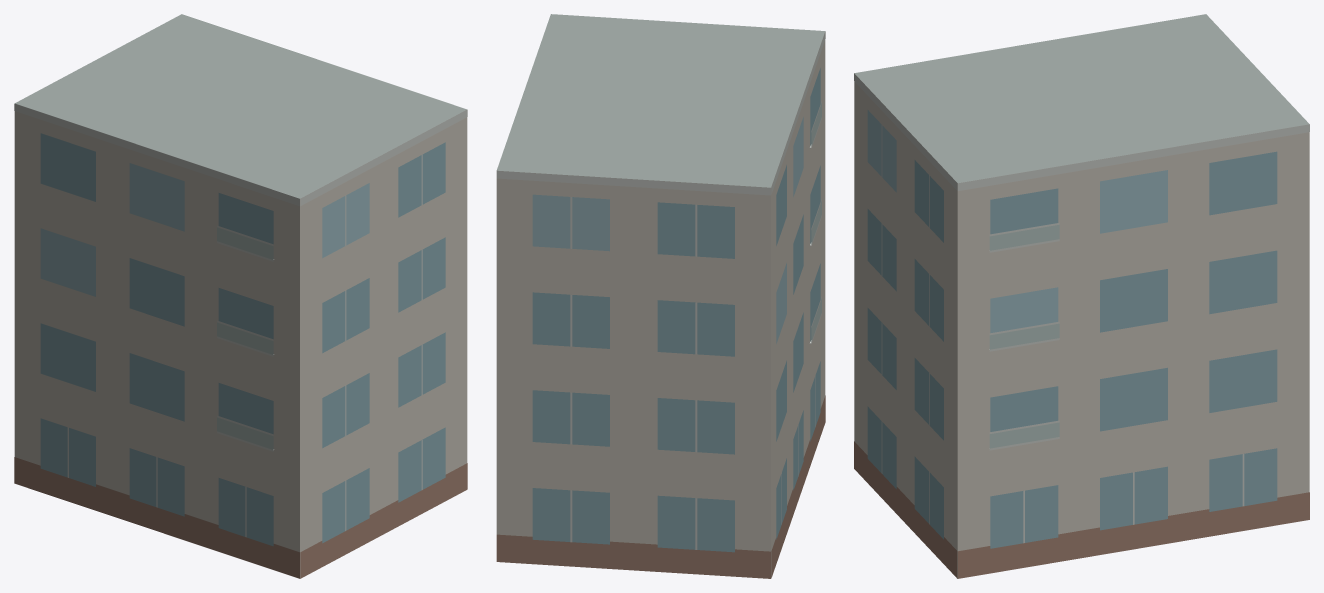
File: residential-f73aed26-8eb4-4c14-95a9-12cc0fffcc47.glb
The picture shows the model from 3 angles, left to right: view 1: azimuth 30°, elevation 25°; view 2: azimuth 150°, elevation 25°; view 3: azimuth 270°, elevation 25°; orthographic projection. The views are drawn at different scales.
Parts seen in each view (by area): view 1: residential-f73aed26-8eb4-4c14-95a9-12cc0fffcc47.tmp; view 2: residential-f73aed26-8eb4-4c14-95a9-12cc0fffcc47.tmp; view 3: residential-f73aed26-8eb4-4c14-95a9-12cc0fffcc47.tmp.
Boxes of the visible parts, x1,y1,x2,y2 form: residential-f73aed26-8eb4-4c14-95a9-12cc0fffcc47.tmp: [14, 14, 467, 578]; residential-f73aed26-8eb4-4c14-95a9-12cc0fffcc47.tmp: [496, 14, 825, 578]; residential-f73aed26-8eb4-4c14-95a9-12cc0fffcc47.tmp: [854, 14, 1309, 578].
Size of the model in its own units: 11.21 by 12.2 by 12.75.
